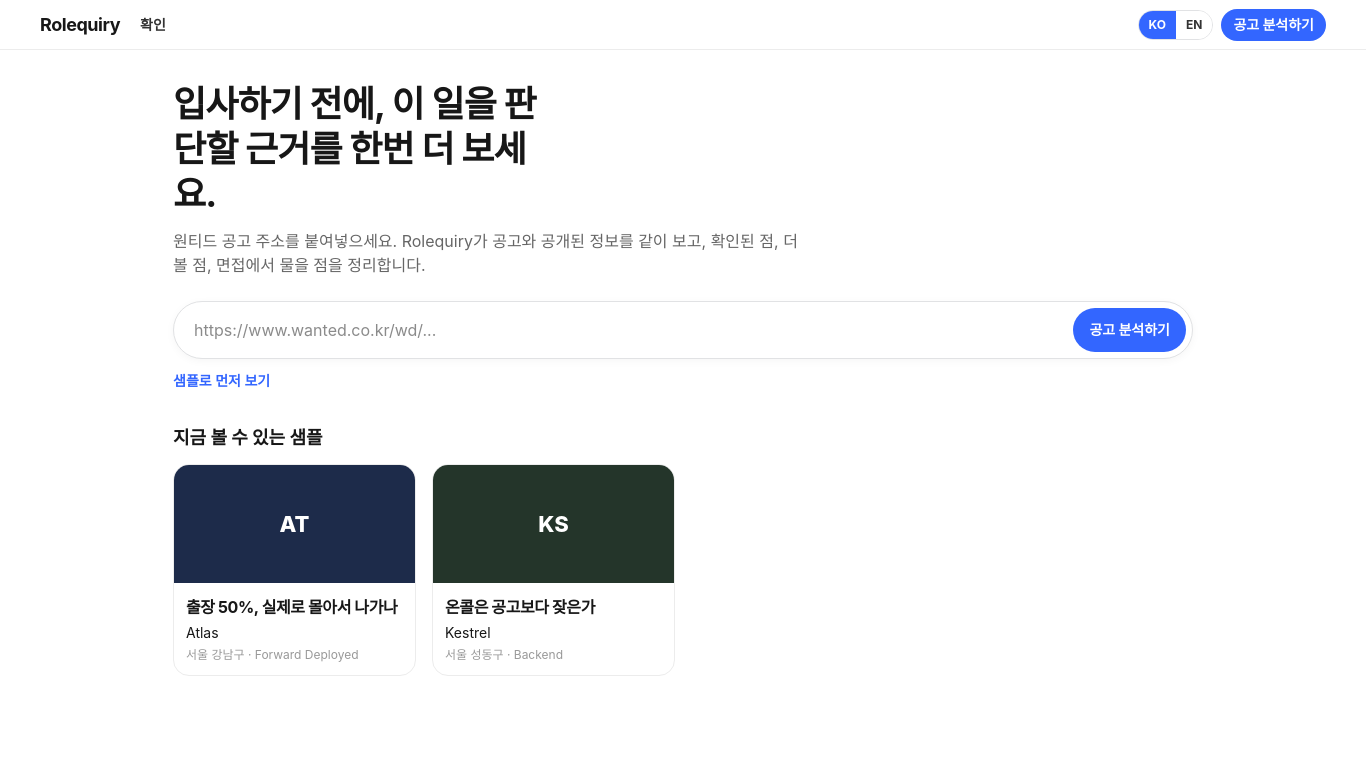
Test: Wanted Edition landing › switches the landing chrome to English
Click the button "EN": (1194, 24) [1176,10,1212,38]
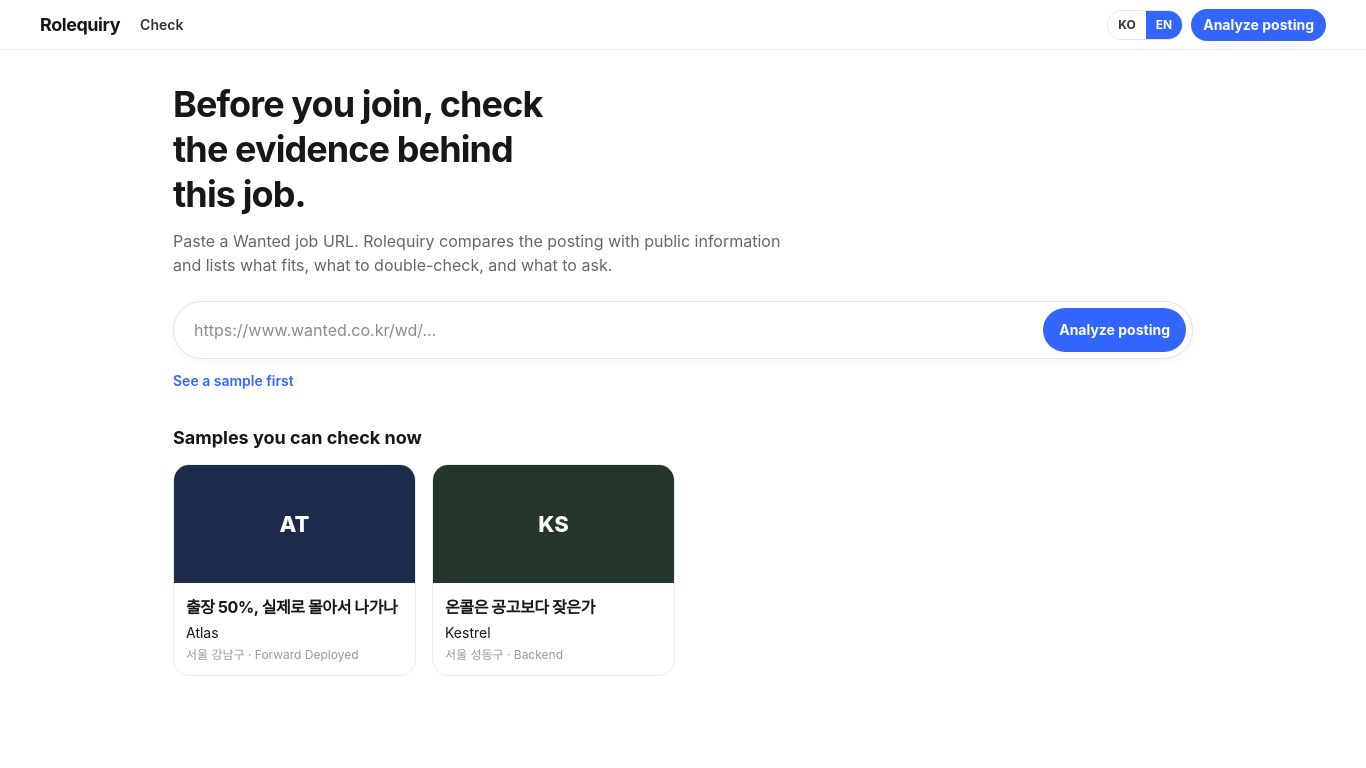
Expected: the heading "Before you join, check the evidence behind this job." is shown, [173,82,561,217]
Expected: the button "Analyze posting" is shown, [1043,308,1186,352]
